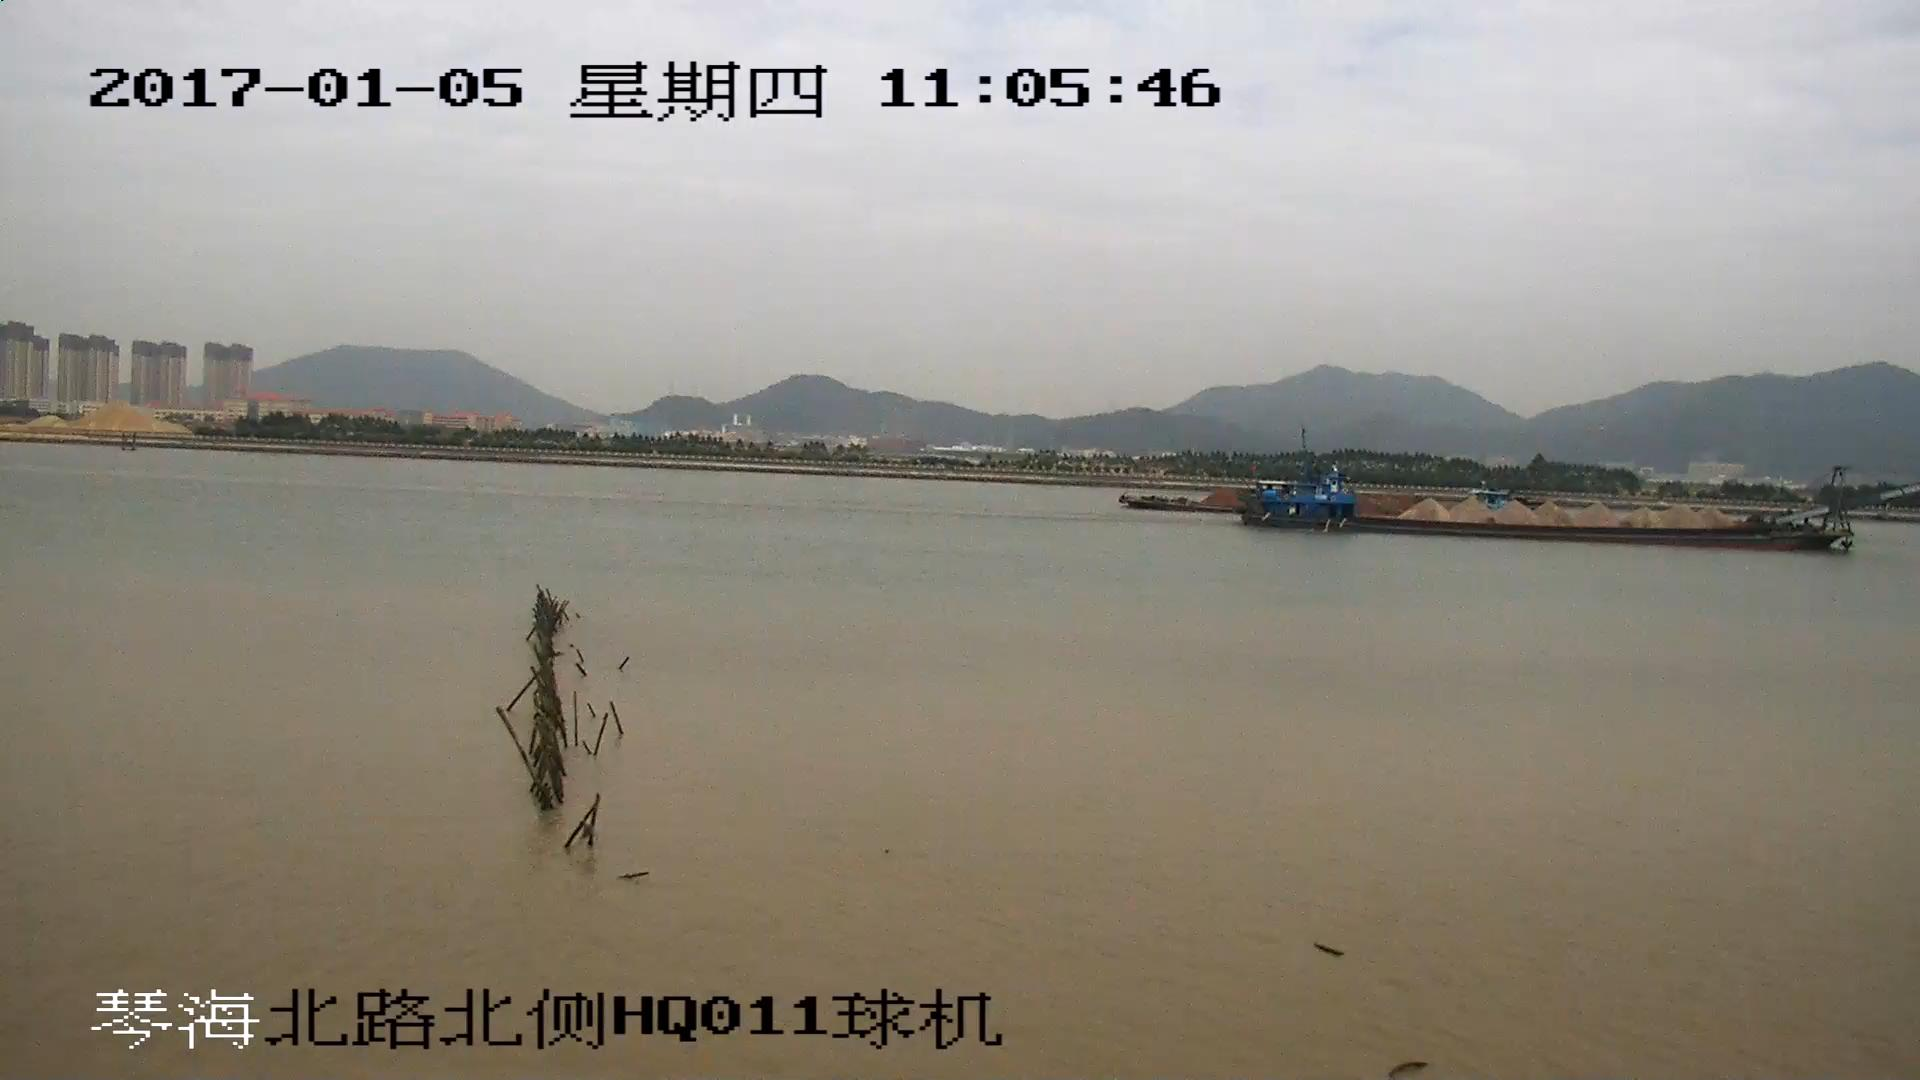ore carrier: (1248, 462, 1920, 545)
